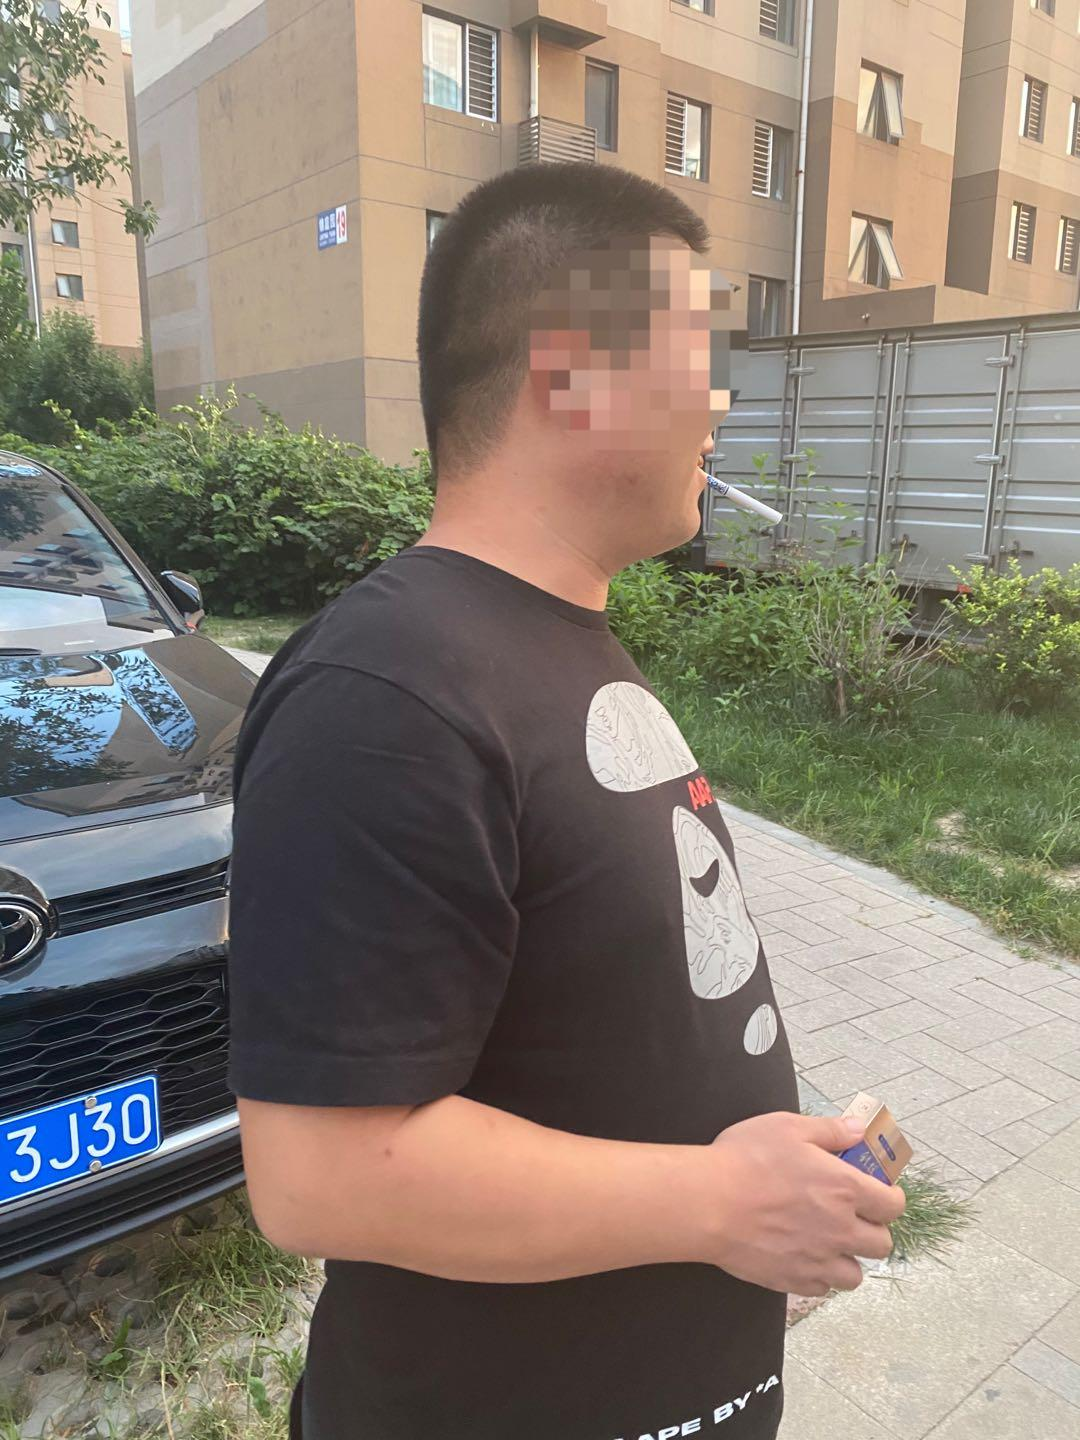smoke: (709, 474, 788, 534)
